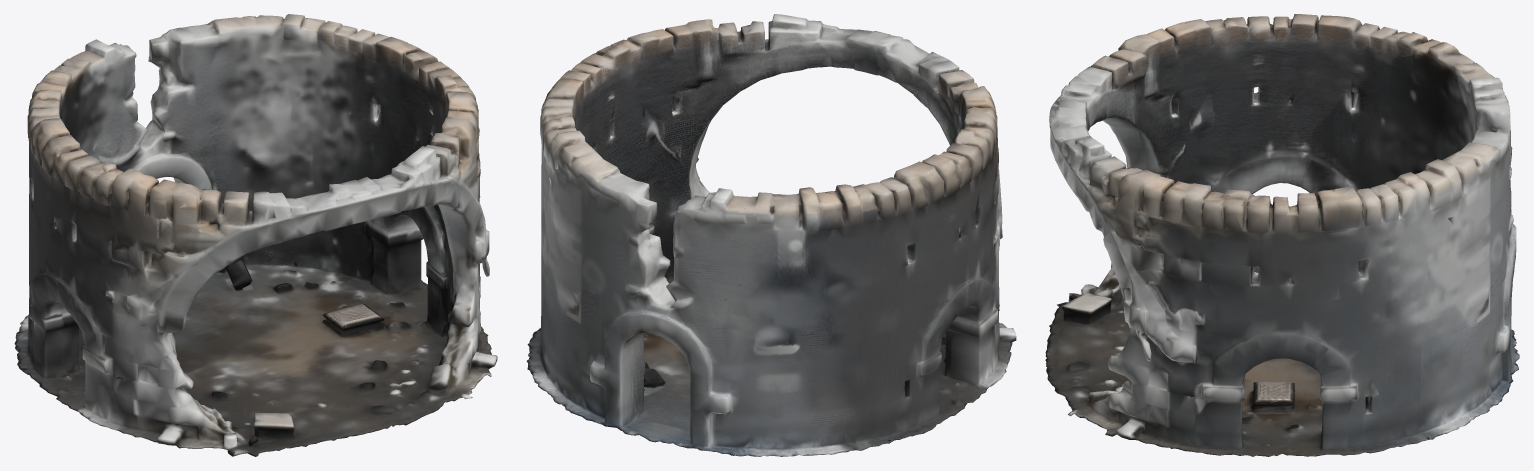
The model's file is campfire_tower-web.glb.
3 views of the same model, side by side, from view 1: azimuth 30°, elevation 25°; view 2: azimuth 150°, elevation 25°; view 3: azimuth 270°, elevation 25° (orthographic). The views are drawn at different scales.
Bounding box in the file's own units: 1.99 × 1.19 × 2.
Materials: 1 (1 with a texture image).
